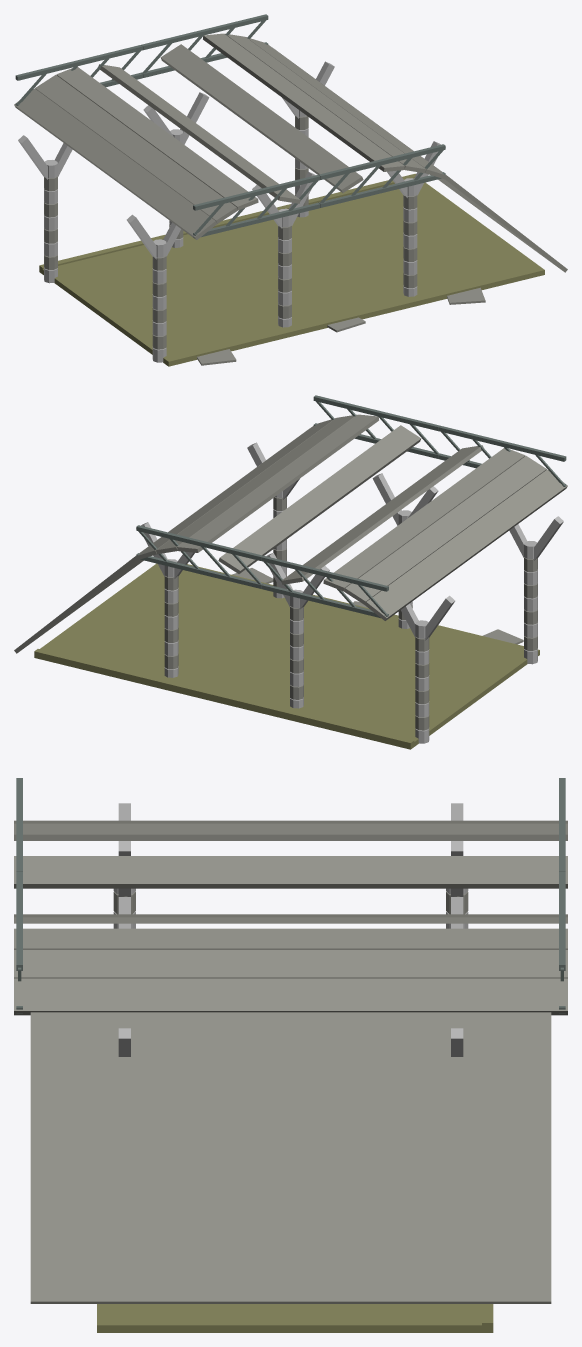
Rendered from SM_MarquesinaBus_v1_Chapas_e1_Danado_LOD0.fbx.
3 views of the same model, one above another, from view 1: azimuth 30°, elevation 25°; view 2: azimuth 150°, elevation 25°; view 3: azimuth 270°, elevation 25° (orthographic). The views are drawn at different scales.
Visible parts, largest first — view 1: SM_marquesina_bus_v5_LOD0; view 2: SM_marquesina_bus_v5_LOD0; view 3: SM_marquesina_bus_v5_LOD0.
Part boxes in pixels (x1=…): SM_marquesina_bus_v5_LOD0: x1=14, y1=14, x2=567, y2=366; SM_marquesina_bus_v5_LOD0: x1=14, y1=395, x2=567, y2=749; SM_marquesina_bus_v5_LOD0: x1=14, y1=778, x2=567, y2=1332.
Size of the model in its own units: 13.03 by 5.46 by 10.
